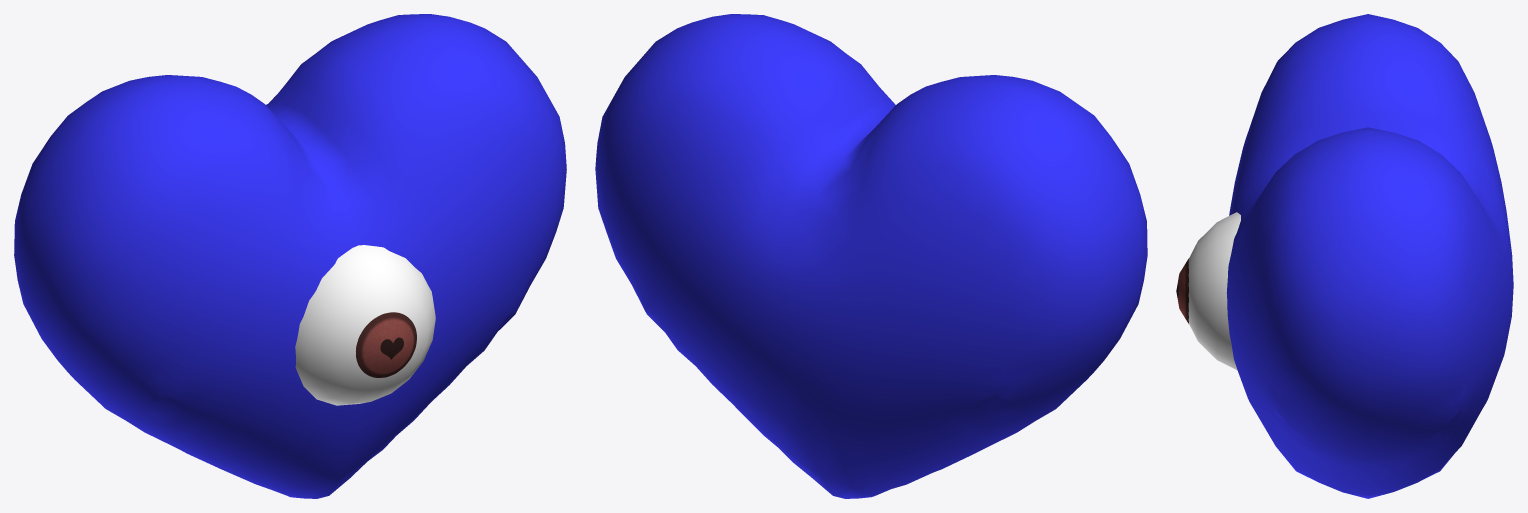
Rendered from オブハーター.fbx.
3 views of the same model, side by side, from view 1: azimuth 30°, elevation 25°; view 2: azimuth 150°, elevation 25°; view 3: azimuth 270°, elevation 25° (orthographic). The views are drawn at different scales.
Parts seen in each view (by area): view 1: Box001; view 2: Box001; view 3: Box001.
Boxes of the visible parts, x1=… form: Box001: x1=14, y1=14, x2=566, y2=498; Box001: x1=595, y1=14, x2=1147, y2=498; Box001: x1=1176, y1=14, x2=1513, y2=498.
Size of the model in its own units: 79.23 by 64.87 by 47.79.
